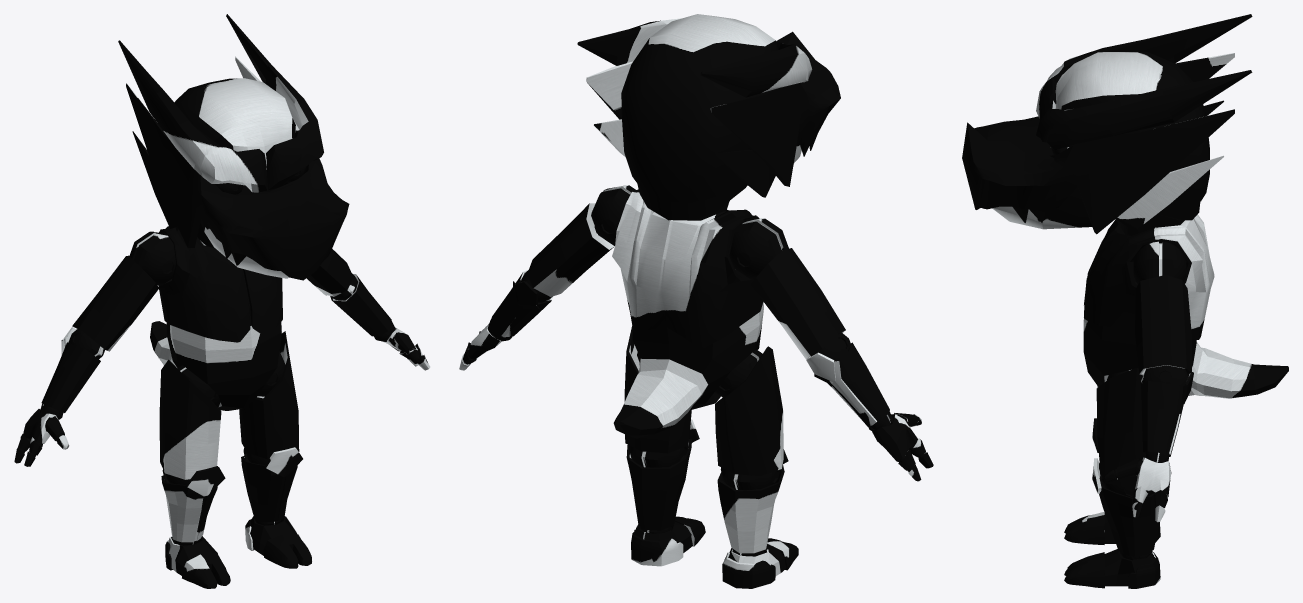
The model's file is dragon_whole.fbx.
The picture shows the model from 3 angles, left to right: view 1: azimuth 30°, elevation 25°; view 2: azimuth 150°, elevation 25°; view 3: azimuth 270°, elevation 25°; orthographic projection. The views are drawn at different scales.
Parts seen in each view (by area): view 1: cybDrgn_geo2; view 2: cybDrgn_geo2; view 3: cybDrgn_geo2.
Boxes of the visible parts, bbox=[...] form: cybDrgn_geo2: bbox=[14, 14, 430, 588]; cybDrgn_geo2: bbox=[459, 14, 933, 588]; cybDrgn_geo2: bbox=[962, 14, 1288, 588].
Size of the model in its own units: 18.8 by 21.56 by 12.38.
